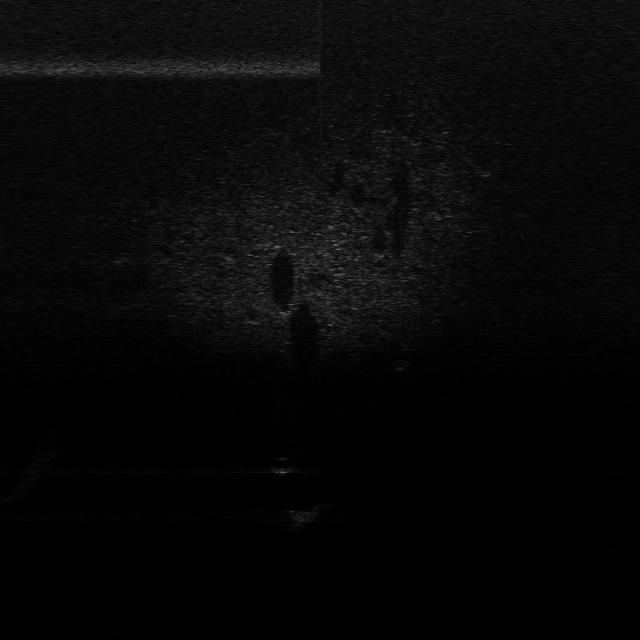ball: (264, 450, 300, 476)
square cage: (280, 501, 336, 527)
tyre: (391, 342, 417, 373)
